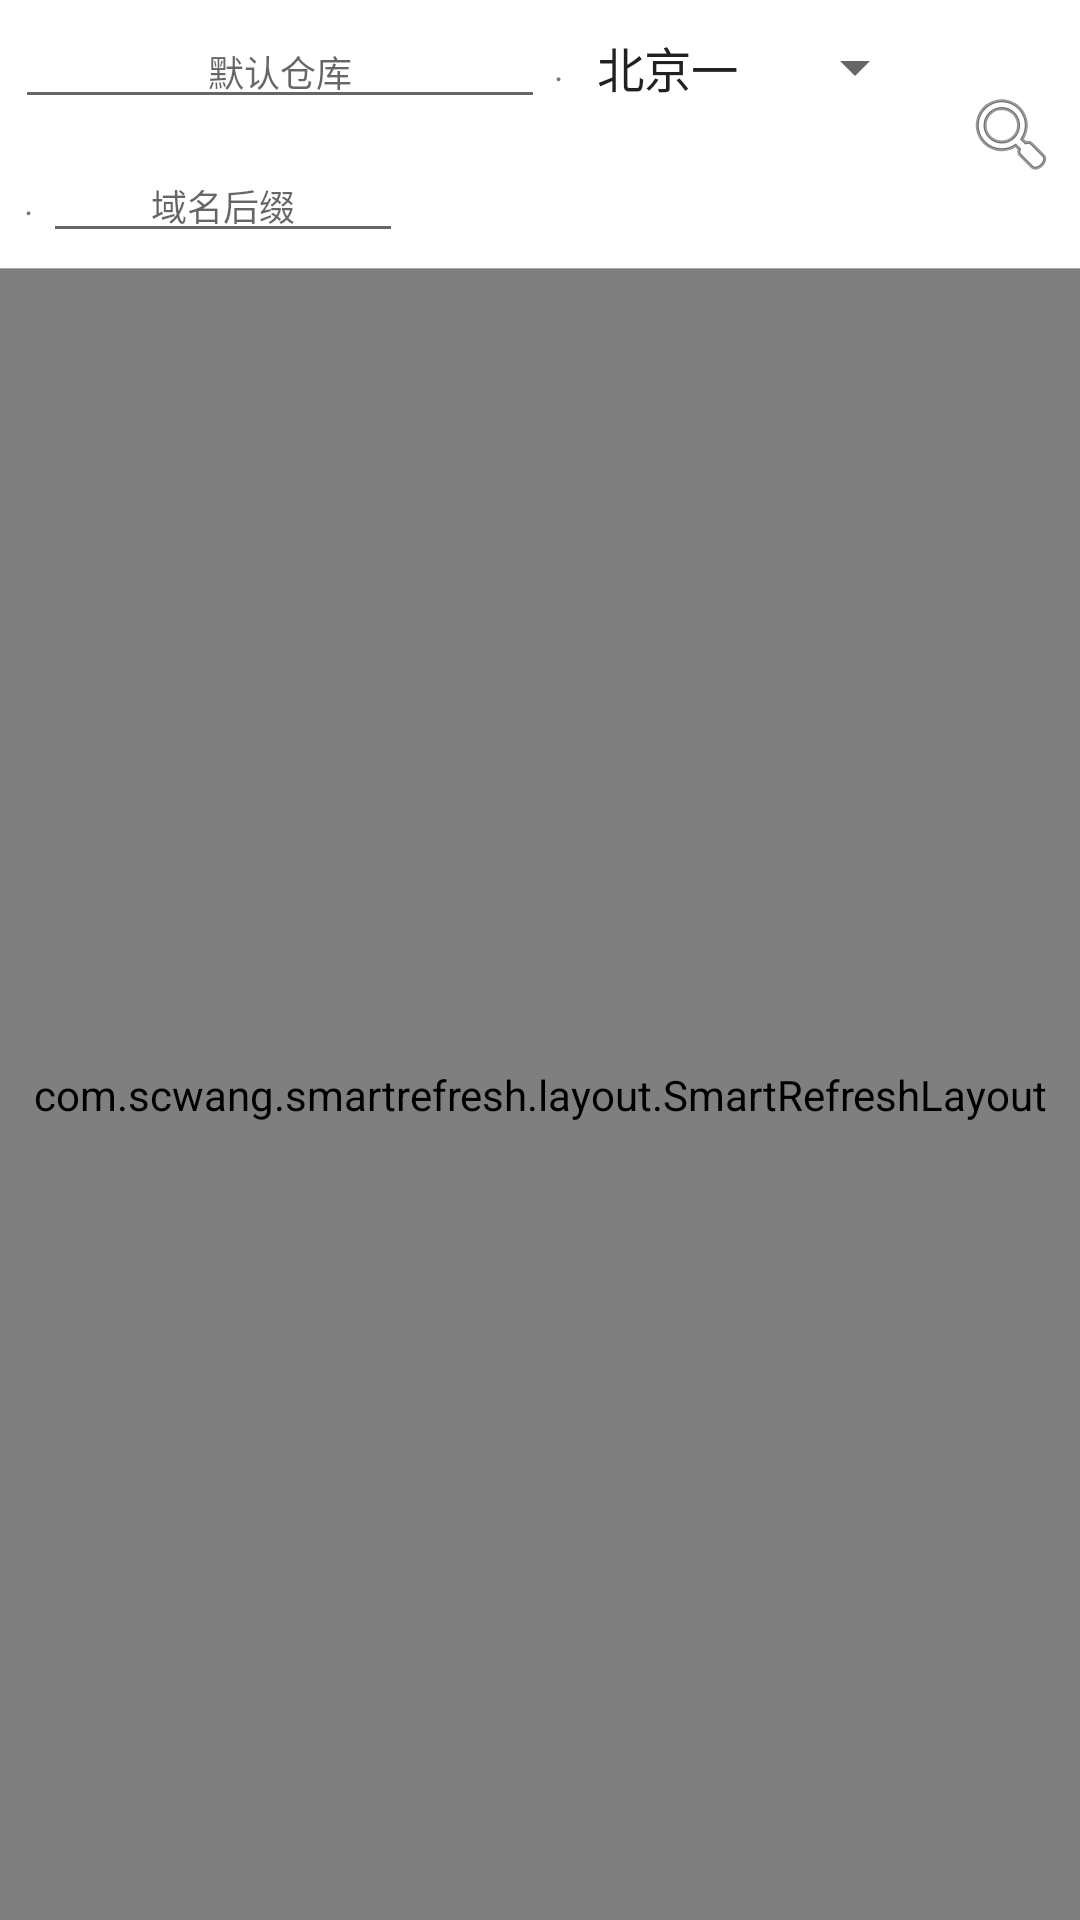

Where icons sit on this 1080px x 1920px app screen, as box=[x1, y1, x2, y2]:
search: box=[975, 99, 1047, 170]
